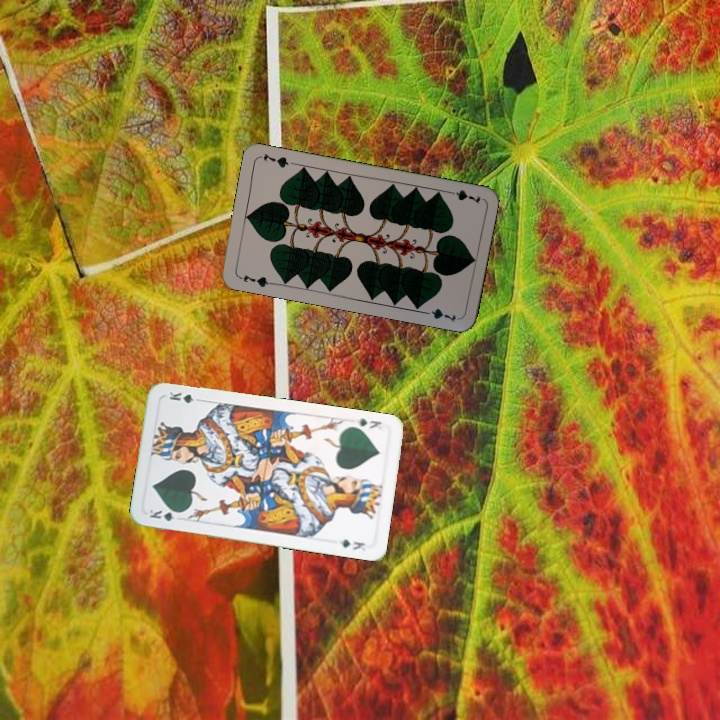G7: (443, 186, 483, 206), (235, 270, 275, 290)
GK: (146, 505, 185, 524), (352, 414, 384, 432)
